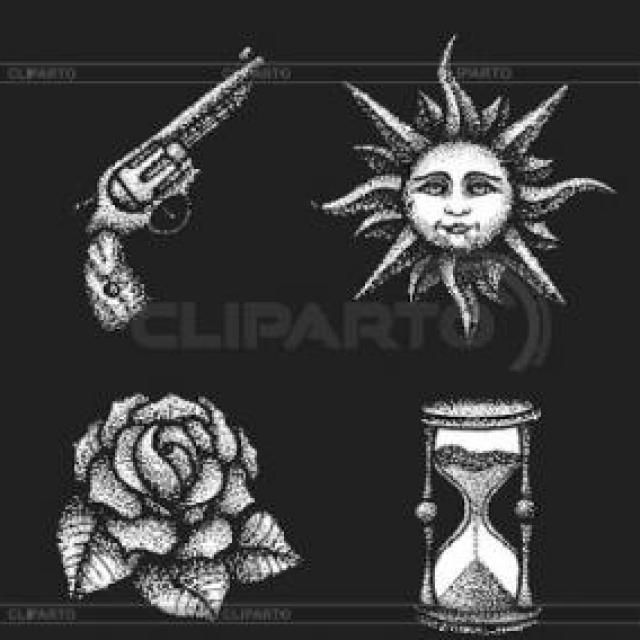pistol: (49, 32, 266, 344)
